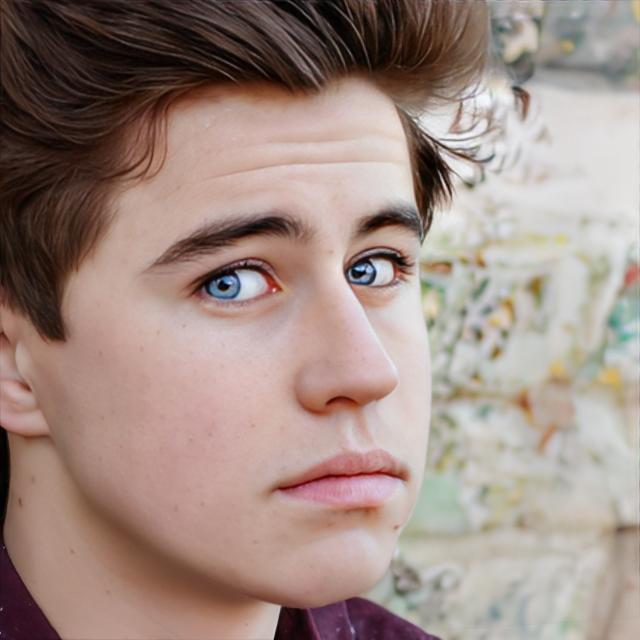sad: (48, 72, 435, 612)
